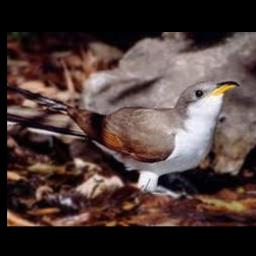Cuckoo: (7, 81, 240, 194)
